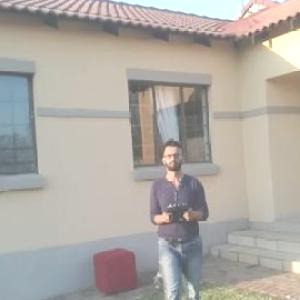follow: (138, 133, 209, 299)
